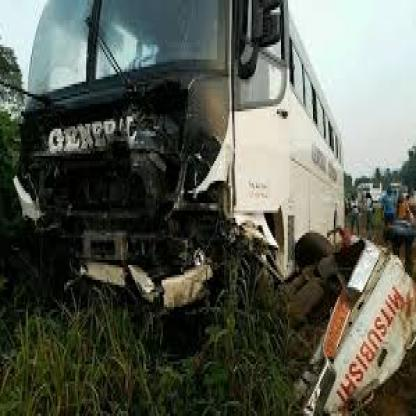accident: (14, 4, 416, 410)
